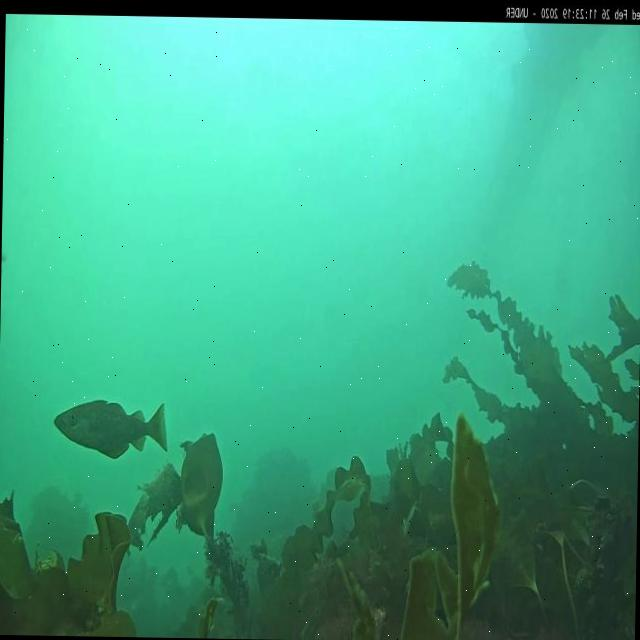fish: (53, 397, 169, 461)
